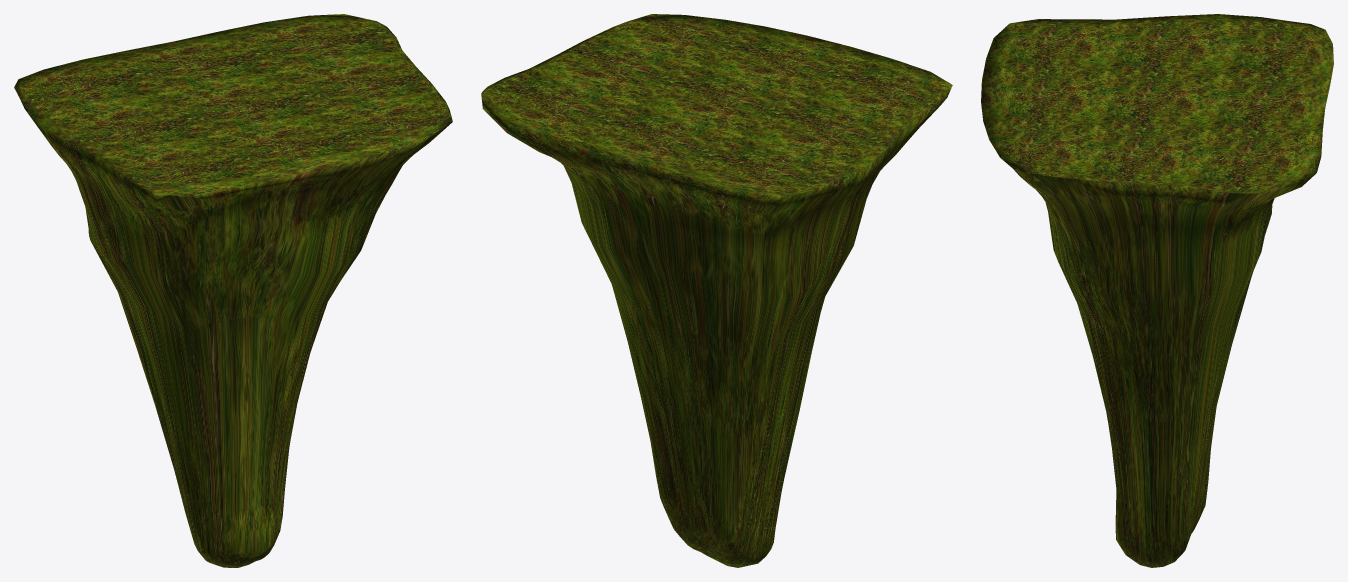
File: LVL_ROAST_MUTTON_ROCK01_MUSHROOM.fbx
3 renders of one model, left to right at view 1: azimuth 30°, elevation 25°; view 2: azimuth 150°, elevation 25°; view 3: azimuth 270°, elevation 25°, orthographic. The views are drawn at different scales.
Parts seen in each view (by area): view 1: LVL_ROAST_MUTTON_ROCK01_MUSHROOM; view 2: LVL_ROAST_MUTTON_ROCK01_MUSHROOM; view 3: LVL_ROAST_MUTTON_ROCK01_MUSHROOM.
Part boxes in pixels (x1,y1,x2,y2): LVL_ROAST_MUTTON_ROCK01_MUSHROOM: [14, 14, 452, 567]; LVL_ROAST_MUTTON_ROCK01_MUSHROOM: [481, 14, 952, 567]; LVL_ROAST_MUTTON_ROCK01_MUSHROOM: [981, 14, 1333, 567].
Size of the model in its own units: 72927 by 87974 by 60353.
Materials: 1 (1 with a texture image).
